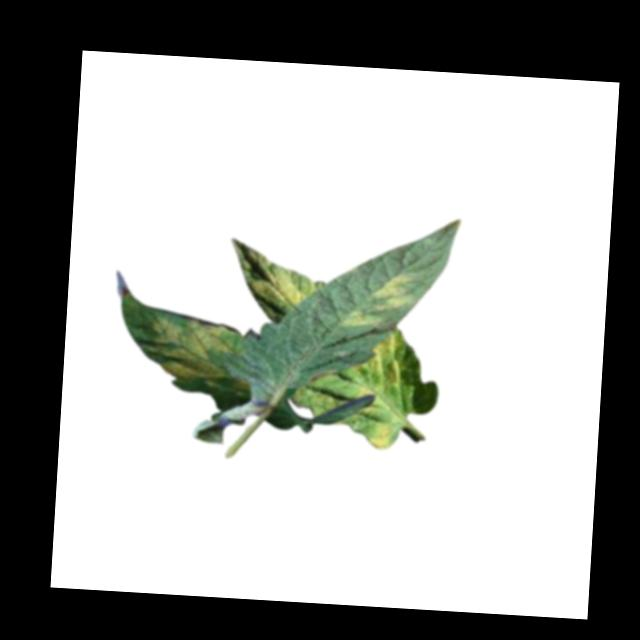Leaf_Mold: (149, 317, 255, 393), (226, 238, 316, 318), (340, 270, 416, 334), (360, 331, 403, 386), (368, 421, 399, 451), (353, 388, 378, 416)
